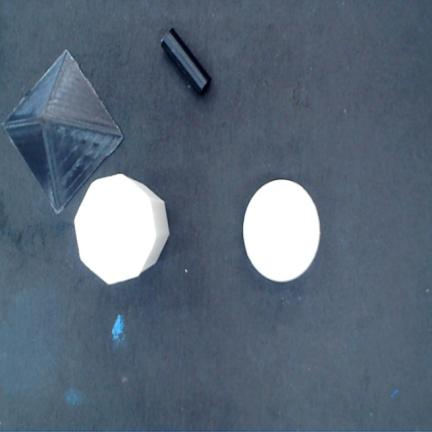Cilindro: (160, 28, 212, 96)
Esfera: (243, 179, 320, 282)
Piramide: (3, 50, 122, 213)
Prisma_hexagonal: (74, 174, 169, 284)
